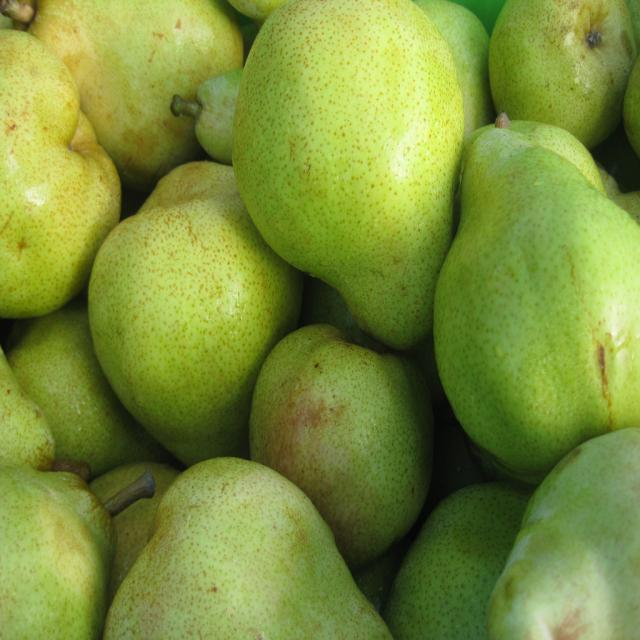Pear: (0, 0, 639, 639), (431, 114, 638, 479)
